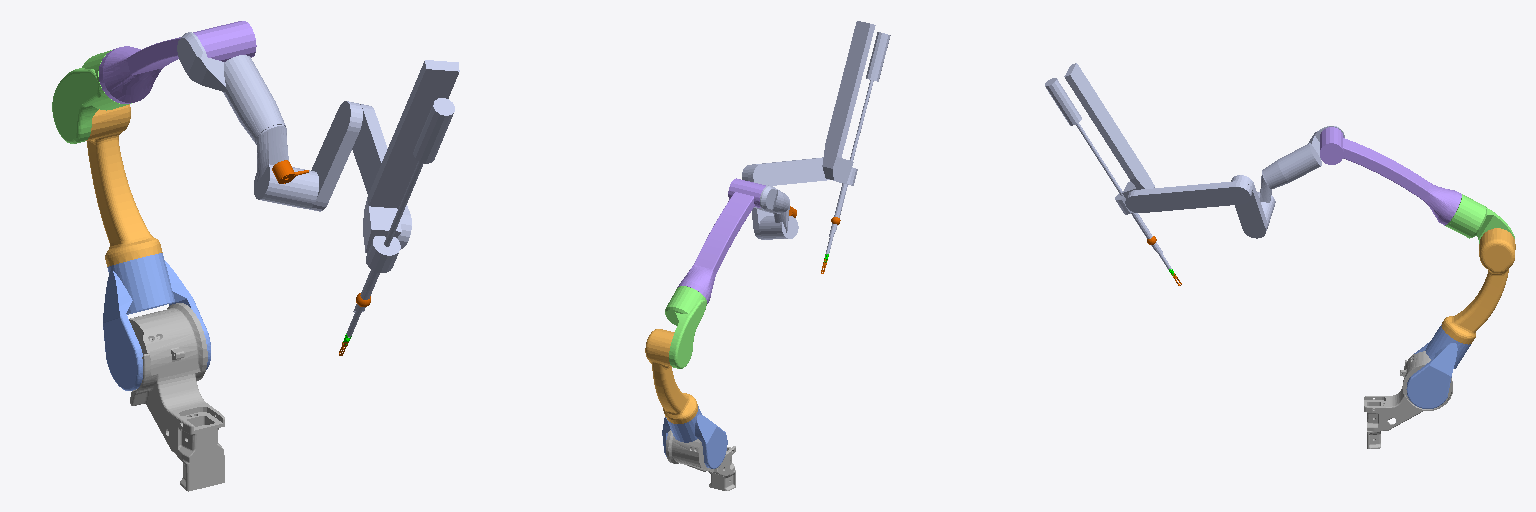
robot.urdf — V1_Arm_URDF:
<robot
  name="V1_Arm_URDF">

  <link
    name="V1_arm1_base_link">
    <inertial>
      <origin
        xyz="-0.00055124  -0.02427719 -0.02322142"
        rpy="0 0 0" />
      <mass
        value="1.9" />
      <inertia
        ixx="0.00758967"
        ixy="0.00001624"
        ixz="0.00002591"
        iyy="0.00439493"
        iyz="0.00281287"
        izz="0.00472741" />
    </inertial>
    <visual>
      <origin
        xyz="0 0 0"
        rpy="0 0 0" />
      <geometry>
        <mesh
          filename="package://V1_Arm_URDF/meshes/V1_arm1_base_link.STL" />
      </geometry>
      <material
        name="">
        <color
          rgba="0.75294 0.75294 0.75294 1" />
      </material>
    </visual>
    <collision>
      <origin
        xyz="0 0 0"
        rpy="0 0 0" />
      <geometry>
        <mesh
          filename="package://V1_Arm_URDF/meshes/V1_arm1_base_link.STL" />
      </geometry>
    </collision>
  </link>

<link
    name="V1_arm1_shoulder_pitch_link">
    <inertial>
      <origin
        xyz="0.06218887 0 0.00000160"
        rpy="0 0 0" />
      <mass
        value="1.195" />
      <inertia
        ixx="0.00183098"
        ixy="0"
        ixz="0.00000007"
        iyy="0.00350504"
        iyz="0"
        izz="0.00256228" />
    </inertial>
    <visual>
      <origin
        xyz="0 0 0"
        rpy="0 0 0" />
      <geometry>
        <mesh
          filename="package://V1_Arm_URDF/meshes/V1_arm1_shoulder_pitch_link.STL" />
      </geometry>
      <material
        name="">
        <color
          rgba="0.6 0.72549 1 1" />
      </material>
    </visual>
    <collision>
      <origin
        xyz="0 0 0"
        rpy="0 0 0" />
      <geometry>
        <mesh
          filename="package://V1_Arm_URDF/meshes/V1_arm1_shoulder_pitch_link.STL" />
      </geometry>
    </collision>
  </link>

<joint
    name="V1_arm1_shoulder_pitch_joint"
    type="revolute">
    <origin
      xyz="0 0 0"
      rpy="1.5708 -1.0472 1.5708" />
    <parent
      link="V1_arm1_base_link" />
    <child
      link="V1_arm1_shoulder_pitch_link" />
    <axis
      xyz="0 0 1" />
    <limit effort="30" lower="-2.3607" upper=".7809" velocity="1.0"/>
  </joint>

<link
    name="V1_arm1_shoulder_roll_link">
    <inertial>
      <origin
        xyz="0.00448948 -0.00254241 -0.07314239"
        rpy="0 0 0" />
      <mass
        value="1.183" />
      <inertia
        ixx="0.00753429"
        ixy="-0.00007070"
        ixz="0.00096970"
        iyy="0.00779969"
        iyz="-0.00032930"
        izz="0.00088178" />
    </inertial>
    <visual>
      <origin
        xyz="0 0 0"
        rpy="0 0 0" />
      <geometry>
        <mesh
          filename="package://V1_Arm_URDF/meshes/V1_arm1_shoulder_roll_link.STL" />
      </geometry>
      <material
        name="">
        <color
          rgba="1 0.75686 0.38431 1" />
      </material>
    </visual>
    <collision>
      <origin
        xyz="0 0 0"
        rpy="0 0 0" />
      <geometry>
        <mesh
          filename="package://V1_Arm_URDF/meshes/V1_arm1_shoulder_roll_link.STL" />
      </geometry>
    </collision>
  </link>

<joint
    name="V1_arm1_shoulder_roll_joint"
    type="revolute">
    <origin
      xyz="0.32385 0 0"
      rpy="1.5708 0 1.5708" />
    <parent
      link="V1_arm1_shoulder_pitch_link" />
    <child
      link="V1_arm1_shoulder_roll_link" />
    <axis
      xyz="0 0 1" />
    <limit effort="30" lower="-1.5708" upper="1.5708" velocity="1.0"/>
  </joint>

<link
    name="V1_arm1_elbow_link">
    <inertial>
      <origin
        xyz="0.02404932 0.06734925 -0.02975223"
        rpy="0 0 0" />
      <mass
        value="1.281" />
      <inertia
        ixx="0.00269566"
        ixy="0.00050162"
        ixz="0.00013679"
        iyy="0.00112075"
        iyz="0.00055297"
        izz="0.00279944" />
    </inertial>
    <visual>
      <origin
        xyz="0 0 0"
        rpy="0 0 0" />
      <geometry>
        <mesh
          filename="package://V1_Arm_URDF/meshes/V1_arm1_elbow_link.STL" />
      </geometry>
      <material
        name="">
        <color
          rgba="0.61569 1 0.55294 1" />
      </material>
    </visual>
    <collision>
      <origin
        xyz="0 0 0"
        rpy="0 0 0" />
      <geometry>
        <mesh
          filename="package://V1_Arm_URDF/meshes/V1_arm1_elbow_link.STL" />
      </geometry>
    </collision>
  </link>

<joint
    name="V1_arm1_elbow_joint"
    type="revolute">
    <origin
      xyz="0.02 0 0"
      rpy="-1.5708 -1.5708 0" />
    <parent
      link="V1_arm1_shoulder_roll_link" />
    <child
      link="V1_arm1_elbow_link" />
    <axis
      xyz="0 0 1" />
    <limit effort="30" lower="-1.5708" upper="1.5708" velocity="1.0"/>
  </joint>

<link
    name="V1_arm1_forearm_link">
    <inertial>
      <origin
        xyz="0.00000202 0.00575916 0.27761774"
        rpy="0 0 0" />
      <mass
        value="0.942" />
      <inertia
        ixx="0.01148491"
        ixy="0"
        ixz="-0.00000012"
        iyy="0.01162392"
        iyz="-0.00000700"
        izz="0.00047604" />
    </inertial>
    <visual>
      <origin
        xyz="0 0 0"
        rpy="0 0 0" />
      <geometry>
        <mesh
          filename="package://V1_Arm_URDF/meshes/V1_arm1_forearm_link.STL" />
      </geometry>
      <material
        name="">
        <color
          rgba="0.76471 0.64706 1 1" />
      </material>
    </visual>
    <collision>
      <origin
        xyz="0 0 0"
        rpy="0 0 0" />
      <geometry>
        <mesh
          filename="package://V1_Arm_URDF/meshes/V1_arm1_forearm_link.STL" />
      </geometry>
    </collision>
  </link>

<joint
    name="V1_arm1_forearm_joint"
    type="revolute">
    <origin
      xyz=".03000 0 -0.02110"
      rpy="-1.5708 -1.5708 0" />
    <parent
      link="V1_arm1_elbow_link" />
    <child
      link="V1_arm1_forearm_link" />
    <axis
      xyz="0 0 1" />
    <limit effort="30" lower="-1.5708" upper="1.5708" velocity="1.0"/>
  </joint>

<link
    name="V1_arm1_spherical_base_link">
    <inertial>
      <origin
        xyz="0.07922596 0 -0.00707007"
        rpy="0 0 0" />
      <mass
        value="0.600" />
      <inertia
        ixx="0.00032575"
        ixy="0"
        ixz="0.00025917"
        iyy="0.00123265"
        iyz="0"
        izz="0.00110614" />
    </inertial>
    <visual>
      <origin
        xyz="0 0 0"
        rpy="0 0 0" />
      <geometry>
        <mesh
          filename="package://V1_Arm_URDF/meshes/V1_arm1_spherical_base_link.STL" />
      </geometry>
      <material
        name="">
        <color
          rgba="0.79216 0.81961 0.93333 1" />
      </material>
    </visual>
    <collision>
      <origin
        xyz="0 0 0"
        rpy="0 0 0" />
      <geometry>
        <mesh
          filename="package://V1_Arm_URDF/meshes/V1_arm1_spherical_base_link.STL" />
      </geometry>
    </collision>
  </link>

<joint
    name="V1_arm1_spherical_base_joint"
    type="revolute">
    <origin
      xyz="0 0 0.415"
      rpy="-1.5708 -0.5236 -1.5708" />
    <parent
      link="V1_arm1_forearm_link" />
    <child
      link="V1_arm1_spherical_base_link" />
    <axis
      xyz="0 0 1" />
    <limit effort="30" lower="-1.4820" upper="+2.0087" velocity="1.0"/>
  </joint>

<link
    name="V1_arm1_spherical_roll_link">
    <inertial>
      <origin
        xyz="0.04054375 0.01898139 0.00108566"
        rpy="0 0 0" />
      <mass
        value="0.6" />
      <inertia
        ixx="0.46781819"
        ixy="0.06782344"
        ixz="0.12992694"
        iyy="0.44469162"
        iyz="0.11374943"
        izz="0.45643901" />
    </inertial>
    <visual>
      <origin
        xyz="0 0 0"
        rpy="0 0 0" />
      <geometry>
        <mesh
          filename="package://V1_Arm_URDF/meshes/V1_arm1_spherical_roll_link.STL" />
      </geometry>
      <material
        name="">
        <color
          rgba="0.79216 0.81961 0.93333 1" />
      </material>
    </visual>
    <collision>
      <origin
        xyz="0 0 0"
        rpy="0 0 0" />
      <geometry>
        <mesh
          filename="package://V1_Arm_URDF/meshes/V1_arm1_spherical_roll_link.STL" />
      </geometry>
    </collision>
  </link>

<joint
    name="V1_arm1_spherical_roll_joint"
    type="revolute">
    <origin
      xyz="0.19322 0 0"
      rpy="1.5708 0.18773 1.5708" />
    <parent
      link="V1_arm1_spherical_base_link" />
    <child
      link="V1_arm1_spherical_roll_link" />
    <axis
      xyz="0 0 1" />
    <limit effort="30" lower="-4.71239" upper="4.71239" velocity="1.0"/>
  </joint>

<link
    name="V1_arm1_pitch_a_link">
    <inertial>
      <origin
        xyz="0.05719705 -0.00004469 0.06919435"
        rpy="0 0 0" />
      <mass
        value="0.243" />
      <inertia
        ixx="0.00005379"
        ixy="0.00000004"
        ixz="0"
        iyy="0.00049133"
        iyz="-0.00000007"
        izz="0.00053231" />
    </inertial>
    <visual>
      <origin
        xyz="0 0 0"
        rpy="0 0 0" />
      <geometry>
        <mesh
          filename="package://V1_Arm_URDF/meshes/V1_arm1_pitch_a_link.STL" />
      </geometry>
      <material
        name="">
        <color
          rgba="0.792156862745098 0.819607843137255 0.933333333333333 1" />
      </material>
    </visual>
    <collision>
      <origin
        xyz="0 0 0"
        rpy="0 0 0" />
      <geometry>
        <mesh
          filename="package://V1_Arm_URDF/meshes/V1_arm1_pitch_a_link.STL" />
      </geometry>
    </collision>
  </link>

<joint
    name="V1_arm1_pitch_a_joint"
    type="revolute">
    <origin
      xyz="0.04753 0 0"
      rpy="1.20376785038861 0.254936892774236 3.04493720059253" />
    <parent
      link="V1_arm1_spherical_roll_link" />
    <child
      link="V1_arm1_pitch_a_link" />
    <axis
      xyz="0 0 1" />
    <limit effort="30" lower="-1.4198" upper="1.0236" velocity="1.0"/>
  </joint>

  <link
    name="V1_arm1_pitch_b_link">
    <inertial>
      <origin
        xyz="0.11423799 -0.00002767 0.0230957192"
        rpy="0 0 0" />
      <mass
        value="0.487" />
      <inertia
        ixx="0.00011057"
        ixy="0.00000046"
        ixz="0.00000147"
        iyy="0.00293978"
        iyz="0"
        izz="0.00302469" />
    </inertial>
    <visual>
      <origin
        xyz="0 0 0"
        rpy="0 0 0" />
      <geometry>
        <mesh
          filename="package://V1_Arm_URDF/meshes/V1_arm1_pitch_b_link.STL" />
      </geometry>
      <material
        name="">
        <color
          rgba="0.792156862745098 0.819607843137255 0.933333333333333 1" />
      </material>
    </visual>
    <collision>
      <origin
        xyz="0 0 0"
        rpy="0 0 0" />
      <geometry>
        <mesh
          filename="package://V1_Arm_URDF/meshes/V1_arm1_pitch_b_link.STL" />
      </geometry>
    </collision>
  </link>

 <joint
    name="V1_arm1_pitch_b_joint"
    type="revolute">
    <origin
      xyz="0.1143 0 0.06419"
      rpy="0 0 1.633628" />
    <parent
      link="V1_arm1_pitch_a_link" />
    <child
      link="V1_arm1_pitch_b_link" />
    <axis
      xyz="0 0 1" />
    <limit effort="30" lower="-1.0236" upper="1.4198" velocity="1.0"/>
  </joint>

  <link
    name="V1_arm1_pitch_c_link">
    <inertial>
      <origin
        xyz="-0.00636062 -0.09760294 -0.01788714"
        rpy="0 0 0" />
      <mass
        value="0.500" />
      <inertia
        ixx="0.00648952"
        ixy="0.00082224"
        ixz="0.00014234"
        iyy="0.00050852"
        iyz="0.00104333"
        izz="0.00650370" />
    </inertial>
    <visual>
      <origin
        xyz="0 0 0"
        rpy="0 0 0" />
      <geometry>
        <mesh
          filename="package://V1_Arm_URDF/meshes/V1_arm1_pitch_c_link.STL" />
      </geometry>
      <material
        name="">
        <color
          rgba="0.792156862745098 0.819607843137255 0.933333333333333 1" />
      </material>
    </visual>
    <collision>
      <origin
        xyz="0 0 0"
        rpy="0 0 0" />
      <geometry>
        <mesh
          filename="package://V1_Arm_URDF/meshes/V1_arm1_pitch_c_link.STL" />
      </geometry>
    </collision>
  </link>

  <joint
    name="V1_arm1_pitch_c_joint"
    type="revolute">
    <origin
      xyz="0.2286 0 0"
      rpy="0 0 0.275762" />
    <parent
      link="V1_arm1_pitch_b_link" />
    <child
      link="V1_arm1_pitch_c_link" />
    <axis
      xyz="0 0 1" />
   <limit effort="30" lower="-1.4198" upper="1.0236" velocity="1.0"/>
  </joint>

  <link
    name="V1_arm1_tool_translate_link">
    <inertial>
      <origin
        xyz="-0.01953409 0.00743989 0.26133068"
        rpy="0 0 0" />
      <mass
        value="0.800" />
      <inertia
        ixx="0.00164842"
        ixy="-0.00006503"
        ixz="0.00010273"
        iyy="0.00179004"
        iyz="-0.00002099"
        izz="0.00059810" />
    </inertial>
    <visual>
      <origin
        xyz="0 0 0"
        rpy="0 0 0" />
      <geometry>
        <mesh
          filename="package://V1_Arm_URDF/meshes/V1_arm1_tool_translate_link.STL" />
      </geometry>
      <material
        name="">
        <color
          rgba="1 0.50196 0.50196 1" />
      </material>
    </visual>
    <collision>
      <origin
        xyz="0 0 0"
        rpy="0 0 0" />
      <geometry>
        <mesh
          filename="package://V1_Arm_URDF/meshes/V1_arm1_tool_translate_link.STL" />
      </geometry>
    </collision>
  </link>

 <joint
    name="V1_arm1_tool_translate_joint"
    type="prismatic">
    <origin
      xyz="0.0379 0 0"
      rpy="1.7453 0 0" />
    <parent
      link="V1_arm1_pitch_c_link" />
    <child
      link="V1_arm1_tool_translate_link" />
    <axis
      xyz="0 0 1" />
    <limit effort="30" lower="-.167" upper=".092" velocity="1.0"/>
  </joint>

 <link
    name="V1_arm1_tool_rotate_link">
    <inertial>
      <origin
        xyz="0 0 0.38715"
        rpy="0 0 0" />
      <mass
        value="0.05" />
      <inertia
        ixx="0.00069673"
        ixy="0"
        ixz="0"
        iyy="0.00069673"
        iyz="0"
        izz="0.00000444" />
    </inertial>
    <visual>
      <origin
        xyz="0 0 0"
        rpy="0 0 0" />
      <geometry>
        <mesh
          filename="package://V1_Arm_URDF/meshes/V1_arm1_tool_rotate_link.STL" />
      </geometry>
      <material
        name="">
        <color
          rgba="0.79216 0.81961 0.93333 1" />
      </material>
    </visual>
    <collision>
      <origin
        xyz="0 0 0"
        rpy="0 0 0" />
      <geometry>
        <mesh
          filename="package://V1_Arm_URDF/meshes/V1_arm1_tool_rotate_link.STL" />
      </geometry>
    </collision>
  </link>

<joint
    name="V1_arm1_tool_rotate_joint"
    type="revolute">
    <origin
      xyz="0 0 -0.1891"
      rpy="0 0 0" />
    <parent
      link="V1_arm1_tool_translate_link" />
    <child
      link="V1_arm1_tool_rotate_link" />
    <axis
      xyz="0 0 1" />
    <limit effort="30" lower="-7.85398" upper="7.85398" velocity="1.0"/>
  </joint>

 <link
    name="V1_arm1_wrist_link">
    <inertial>
      <origin
        xyz="0.00506523 0 0"
        rpy="0 0 0" />
      <mass
        value="0.005" />
      <inertia
        ixx="0.00000004"
        ixy="0"
        ixz="0"
        iyy="0.00000015"
        iyz="0"
        izz="0.00000014" />
    </inertial>
    <visual>
      <origin
        xyz="0 0 0"
        rpy="0 0 0" />
      <geometry>
        <mesh
          filename="package://V1_Arm_URDF/meshes/V1_arm1_wrist_link.STL" />
      </geometry>
      <material
        name="">
        <color
          rgba="0 1 0 1" />
      </material>
    </visual>
    <collision>
      <origin
        xyz="0 0 0"
        rpy="0 0 0" />
      <geometry>
        <mesh
          filename="package://V1_Arm_URDF/meshes/V1_arm1_wrist_link.STL" />
      </geometry>
    </collision>
  </link>

<joint
    name="V1_arm1_wrist_joint"
    type="revolute">
    <origin
      xyz="0 0 0"
      rpy="1.5708 1.5708 0" />
    <parent
      link="V1_arm1_tool_rotate_link" />
    <child
      link="V1_arm1_wrist_link" />
    <axis
      xyz="0 0 1" />
    <limit effort="30" lower="-1.5708" upper="1.5708" velocity="1.0"/>
  </joint>

<link
    name="V1_arm1_distal_wrist_link">
</link>

<joint
    name="V1_arm1_distal_wrist_joint"
    type="revolute">
    <origin
      xyz="0.012333 0 0"
      rpy="-1.5708 0 0" />
    <parent
      link="V1_arm1_wrist_link" />
    <child
      link="V1_arm1_distal_wrist_link" />
    <axis
      xyz="0 0 1" />
    <limit effort="30" lower="-1.5708" upper="1.5708" velocity="1.0"/>
</joint>

<link
    name="V1_arm1_jaw_a_link">
    <inertial>
      <origin
        xyz="0.0073012 0.00043319 0.0015031"
        rpy="0 0 0" />
      <mass
        value="0.005" />
      <inertia
        ixx="0.00000003"
        ixy="0.00000002"
        ixz="-0.00000004"
        iyy="0.00000037"
        iyz="0"
        izz="0.00000036" />
    </inertial>
    <visual>
      <origin
        xyz="0 0 0"
        rpy="0 0 0" />
      <geometry>
        <mesh
          filename="package://V1_Arm_URDF/meshes/V1_arm1_jaw_a_link.STL" />
      </geometry>
      <material
        name="">
        <color
          rgba="0.9098 0.44314 0.031373 1" />
      </material>
    </visual>
    <collision>
      <origin
        xyz="0 0 0"
        rpy="0 0 0" />
      <geometry>
        <mesh
          filename="package://V1_Arm_URDF/meshes/V1_arm1_jaw_a_link.STL" />
      </geometry>
    </collision>
</link>

<joint
    name="V1_arm1_jaw_a_joint"
    type="revolute">
    <origin
      xyz="0 0 0"
      rpy="0 0 0" />
    <parent
      link="V1_arm1_distal_wrist_link" />
    <child
      link="V1_arm1_jaw_a_link" />
    <axis
      xyz="0 0 1" />
    <limit effort="30" lower="-1.5708" upper="1.5708" velocity="1.0"/>
  </joint>

<link
    name="V1_arm1_jaw_b_link">  
    <inertial>
      <origin
        xyz="0.0073012 0.00043319 0.0015031"
        rpy="0 0 0" />
      <mass
        value="0.005" />
      <inertia
        ixx="0.00000003"
        ixy="0.00000002"
        ixz="-0.00000004"
        iyy="0.00000037"
        iyz="0"
        izz="0.00000036" />
    </inertial>
    <visual>
      <origin
        xyz="0 0 0"
        rpy="0 0 0" />
      <geometry>
        <mesh
          filename="package://V1_Arm_URDF/meshes/V1_arm1_jaw_b_link.STL" />
      </geometry>
      <material
        name="">
        <color
          rgba="0.9098 0.44314 0.031373 1" />
      </material>
    </visual>
    <collision>
      <origin
        xyz="0 0 0"
        rpy="0 0 0" />
      <geometry>
        <mesh
          filename="package://V1_Arm_URDF/meshes/V1_arm1_jaw_b_link.STL" />
      </geometry>
    </collision>
  </link>

<joint
    name="V1_arm1_jaw_b_joint"
    type="revolute">
    <origin
      xyz="0 0 0"
      rpy="0 0 0" />
    <parent
      link="V1_arm1_distal_wrist_link" />
    <child
      link="V1_arm1_jaw_b_link" />
    <axis
      xyz="0 0 1" />
    <limit effort="30" lower="-1.5708" upper="1.5708" velocity="1.0"/>
  </joint>

/* ATI force-torque sensor: 

<link
    name="V1_arm1_ATI_sensor_link">  
    <inertial>
      <origin
        xyz="0.00082860 0 -0.01099715"
        rpy="0 0 0" />
      <mass
        value="0.063" />
      <inertia
        ixx="0.00000474"
        ixy="0.0000000"
        ixz="-0.00000032"
        iyy="0.00000597"
        iyz="-0.00000002"
        izz="0.00000595" />
    </inertial>
    <visual>
      <origin
        xyz="0 0 0"
        rpy="0 0 0" />
      <geometry>
        <mesh
          filename="package://V1_Arm_URDF/meshes/V1_arm1_ATI_sensor_link.STL" />
      </geometry>
      <material
        name="">
        <color
          rgba="0.9098 0.44314 0.031373 1" />
      </material>
    </visual>
    <collision>
      <origin
        xyz="0 0 0"
        rpy="0 0 0" />
      <geometry>
        <mesh
          filename="package://V1_Arm_URDF/meshes/V1_arm1_ATI_sensor_link.STL" />
      </geometry>
    </collision>
  </link>

<joint
    name="V1_arm1_ATI_sensor_joint"
    type="fixed">
    <origin
      xyz="0.012333 0 0"
      rpy="-3.037  0  1.7038" />
    <parent
      link="V1_arm1_spherical_roll_link" />
    <child
      link="V1_arm1_ATI_sensor_link" />
  </joint>

/* Remote Center of Motion (RCM) link

<link
    name="V1_arm1_RCM_link">  
    <inertial>
      <origin
        xyz="0 0 0"
        rpy="0 0 0" />
      <mass
        value="0.001" />
      <inertia
        ixx="0.000004"
        ixy="0.0000000"
        ixz="0.0000000"
        iyy="0.00000004"
        iyz="0.00000000"
        izz="0.00000004" />
    </inertial>
    <visual>
      <origin
        xyz="0 0 0"
        rpy="0 0 0" />
      <geometry>
        <mesh
          filename="package://V1_Arm_URDF/meshes/V1_arm1_RCM_link.STL" />
      </geometry>
      <material
        name="">
        <color
          rgba="0.9098 0.44314 0.031373 1" />
      </material>
    </visual>
    <collision>
      <origin
        xyz="0 0 0"
        rpy="0 0 0" />
      <geometry>
        <mesh
          filename="package://V1_Arm_URDF/meshes/V1_arm1_RCM_link.STL" />
      </geometry>
    </collision>
  </link>

<joint
    name="V1_arm1_RCM_joint"
    type="fixed">
    <origin
      xyz="0.037902 0.10784 0.019015"
      rpy="-1.3844 -0.3566 -0.065734" />
    <parent
      link="V1_arm1_pitch_c_link" />
    <child
      link="V1_arm1_RCM_link" />
  </joint>

</robot>

--- Render facts (derived) ---
3 views of the same robot in one strip: view 1: azimuth 30°, elevation 25°; view 2: azimuth 150°, elevation 25°; view 3: azimuth 270°, elevation 25° (orthographic).
Robot: V1_Arm_URDF — 18 links, 17 joints (14 revolute, 1 prismatic, 2 fixed); root link V1_arm1_base_link; default pose: every joint at zero.
Visible links, largest first — view 1: V1_arm1_base_link, V1_arm1_pitch_c_link, V1_arm1_shoulder_pitch_link, V1_arm1_shoulder_roll_link, V1_arm1_forearm_link, V1_arm1_spherical_base_link, V1_arm1_elbow_link, V1_arm1_spherical_roll_link, V1_arm1_pitch_a_link, V1_arm1_tool_rotate_link, V1_arm1_pitch_b_link; view 2: V1_arm1_pitch_c_link, V1_arm1_forearm_link, V1_arm1_shoulder_roll_link, V1_arm1_elbow_link, V1_arm1_shoulder_pitch_link, V1_arm1_base_link, V1_arm1_pitch_b_link, V1_arm1_tool_rotate_link, V1_arm1_spherical_roll_link, V1_arm1_pitch_a_link, V1_arm1_spherical_base_link; view 3: V1_arm1_forearm_link, V1_arm1_shoulder_roll_link, V1_arm1_pitch_c_link, V1_arm1_pitch_b_link, V1_arm1_shoulder_pitch_link, V1_arm1_base_link, V1_arm1_spherical_base_link, V1_arm1_elbow_link, V1_arm1_tool_rotate_link, V1_arm1_pitch_a_link.
Link boxes in pixels (<box>): V1_arm1_base_link: <box>129,303,224,491</box>; V1_arm1_pitch_c_link: <box>353,60,459,312</box>; V1_arm1_shoulder_pitch_link: <box>103,253,210,390</box>; V1_arm1_shoulder_roll_link: <box>86,104,162,266</box>; V1_arm1_forearm_link: <box>99,21,256,103</box>; V1_arm1_spherical_base_link: <box>177,32,285,144</box>; V1_arm1_elbow_link: <box>52,50,131,143</box>; V1_arm1_spherical_roll_link: <box>254,125,318,208</box>; V1_arm1_pitch_a_link: <box>309,101,362,211</box>; V1_arm1_tool_rotate_link: <box>346,98,454,337</box>; V1_arm1_pitch_b_link: <box>352,104,411,249</box>; V1_arm1_pitch_c_link: <box>822,21,875,236</box>; V1_arm1_forearm_link: <box>677,178,765,303</box>; V1_arm1_shoulder_roll_link: <box>645,329,697,423</box>; V1_arm1_elbow_link: <box>665,286,706,368</box>; V1_arm1_shoulder_pitch_link: <box>662,406,727,468</box>; V1_arm1_base_link: <box>666,430,735,490</box>; V1_arm1_pitch_b_link: <box>742,157,828,185</box>; V1_arm1_tool_rotate_link: <box>825,32,890,256</box>; V1_arm1_spherical_roll_link: <box>759,199,798,239</box>; V1_arm1_pitch_a_link: <box>748,164,773,239</box>; V1_arm1_spherical_base_link: <box>754,185,789,213</box>; V1_arm1_forearm_link: <box>1320,127,1461,225</box>; V1_arm1_shoulder_roll_link: <box>1441,228,1515,344</box>; V1_arm1_pitch_c_link: <box>1064,63,1162,253</box>; V1_arm1_pitch_b_link: <box>1125,181,1252,212</box>; V1_arm1_shoulder_pitch_link: <box>1406,324,1470,408</box>; V1_arm1_base_link: <box>1364,351,1452,448</box>; V1_arm1_spherical_base_link: <box>1263,126,1344,188</box>; V1_arm1_elbow_link: <box>1445,194,1514,243</box>; V1_arm1_tool_rotate_link: <box>1045,78,1171,269</box>; V1_arm1_pitch_a_link: <box>1231,175,1267,238</box>.
Bounding box of the posed robot: 0.1731 × 0.9788 × 0.8646 m (x, y, z).
Meshes: 17 distinct files referenced, 16 mesh visuals loaded (16 binary STL); not drawn: 1 (reference not matched to a file when rendering).